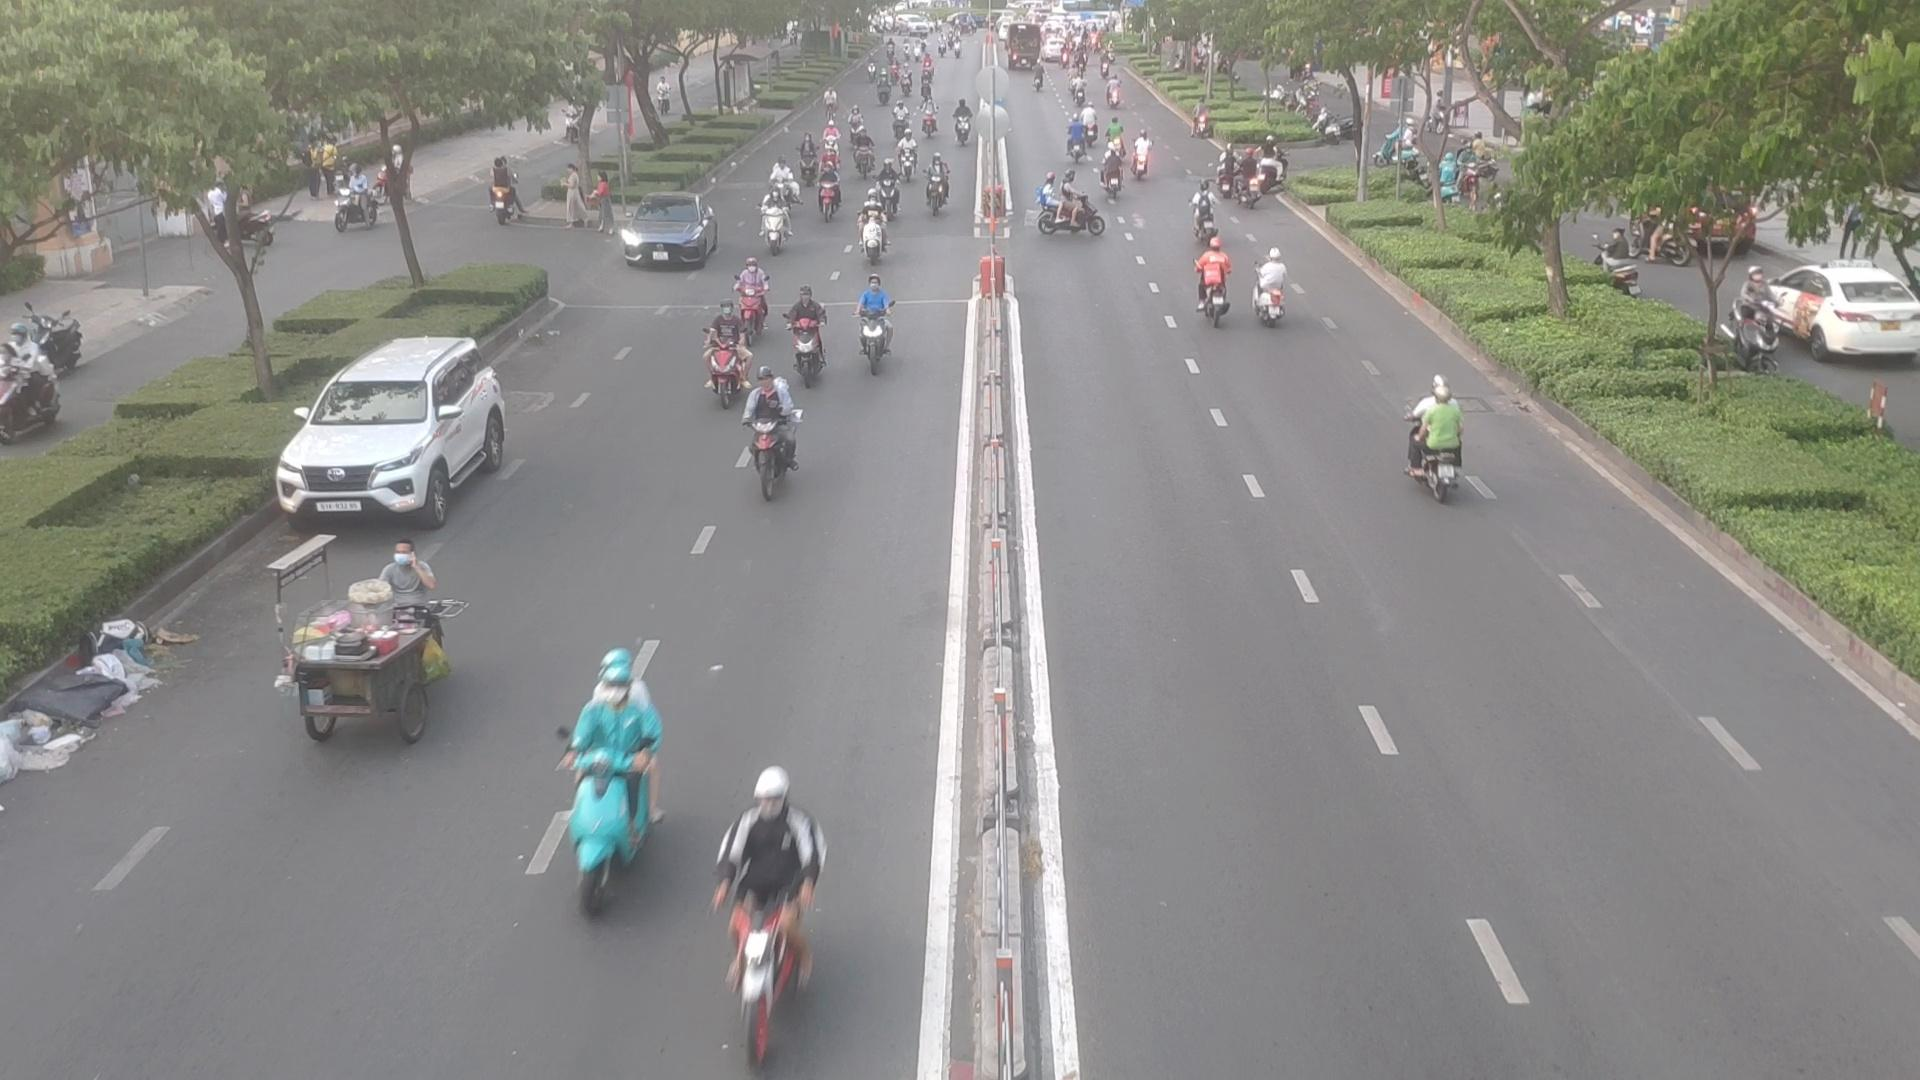car: (280, 331, 522, 520), (613, 196, 719, 272)
motorbike: (717, 754, 833, 1073), (526, 667, 666, 920), (1398, 381, 1477, 495), (738, 371, 800, 498), (698, 305, 756, 401), (849, 278, 903, 371), (791, 286, 836, 378), (1036, 185, 1108, 243), (1185, 247, 1232, 324), (1254, 251, 1299, 323), (728, 260, 771, 330), (1184, 179, 1221, 253), (855, 200, 891, 262), (756, 193, 793, 253), (916, 156, 947, 208), (1096, 152, 1126, 199), (818, 171, 847, 220)
